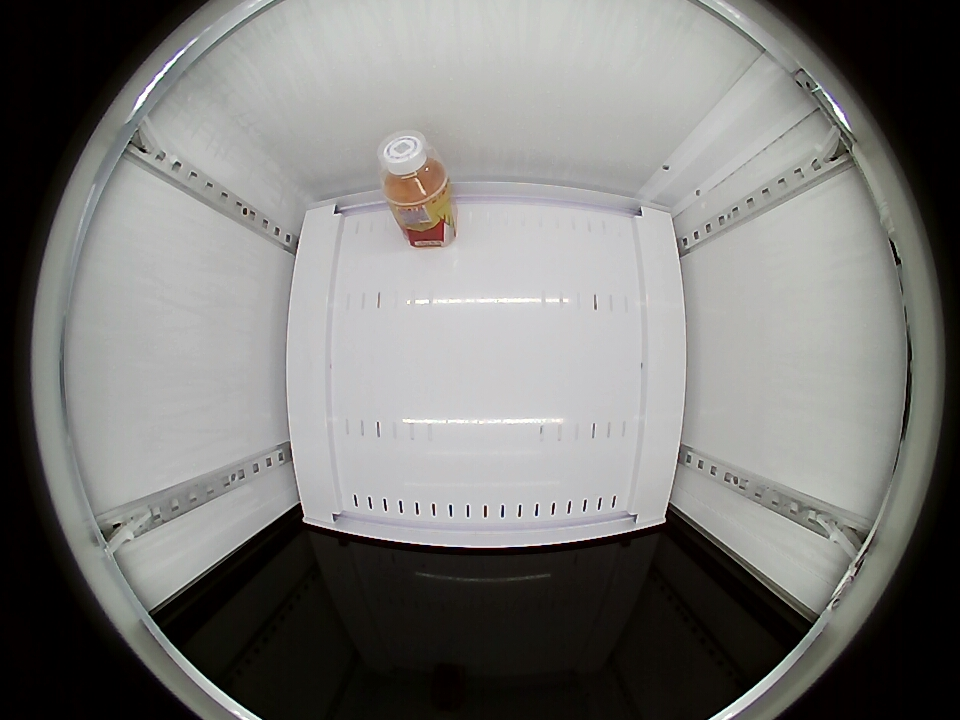dongpeng-b: (378, 131, 451, 208)
